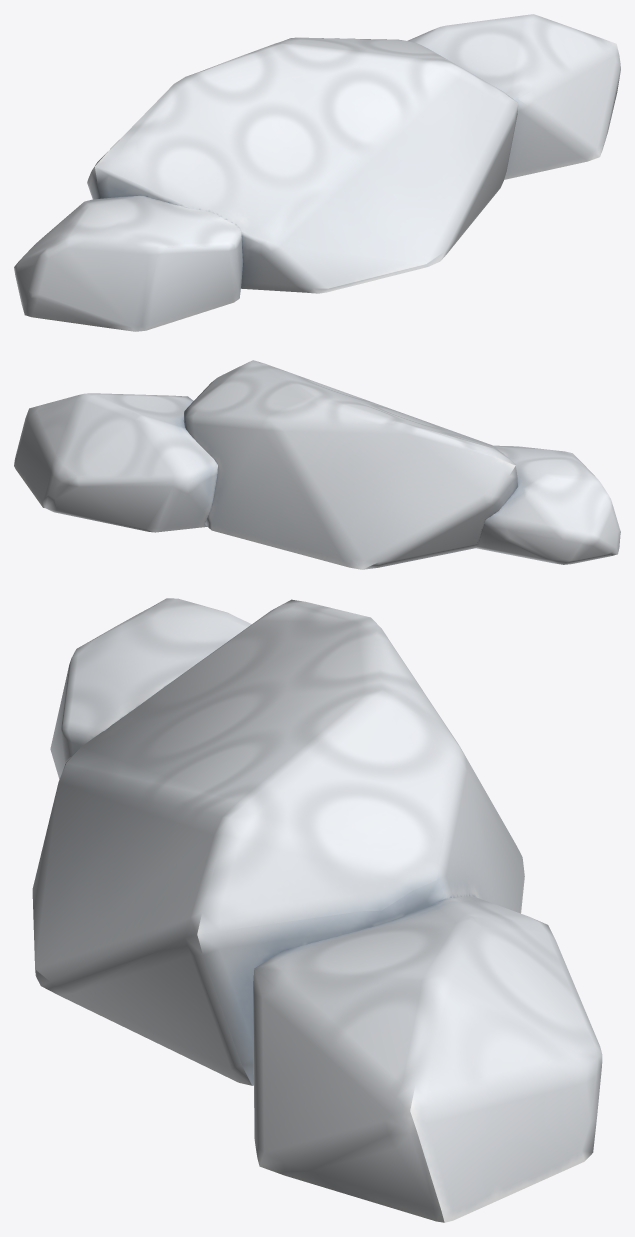
The model's file is Glace_Congere.fbx.
3 views of the same model, one above another, from view 1: azimuth 30°, elevation 25°; view 2: azimuth 150°, elevation 25°; view 3: azimuth 270°, elevation 25° (orthographic). The views are drawn at different scales.
Parts seen in each view (by area): view 1: Glace_Congere; view 2: Glace_Congere; view 3: Glace_Congere.
Boxes of the visible parts, bbox=[...] form: Glace_Congere: bbox=[14, 14, 620, 331]; Glace_Congere: bbox=[14, 360, 620, 569]; Glace_Congere: bbox=[32, 598, 602, 1222].
Size of the model in its own units: 755 by 170 by 343.
1 material, 1 textured.
